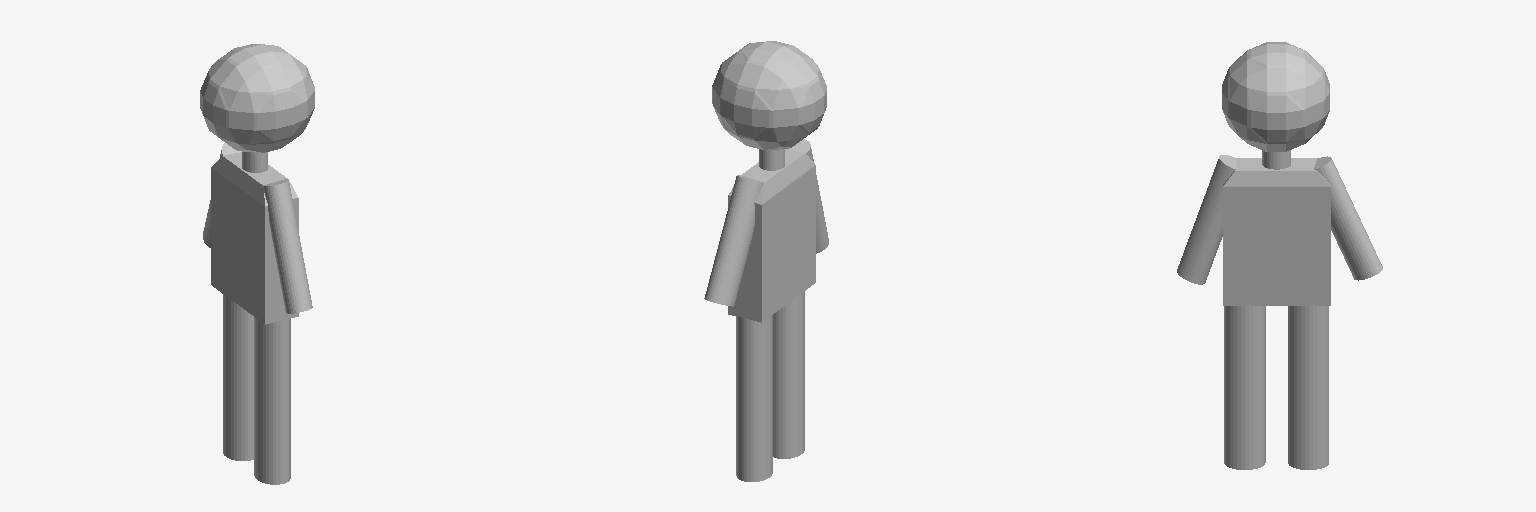
Rendered from man.obj.
3 views of the same model, side by side, from view 1: azimuth 30°, elevation 25°; view 2: azimuth 150°, elevation 25°; view 3: azimuth 270°, elevation 25° (orthographic).
Parts seen in each view (by area): view 1: Mball, Cube, Cylinder.002, Cylinder.001, Cylinder.003; view 2: Cube, Mball, Cylinder.001, Cylinder.002, Cylinder.004, Cylinder.003; view 3: Cube, Mball, Cylinder.002, Cylinder.001, Cylinder.003, Cylinder.004.
Part boxes in pixels (x1,y1,x2,y2): Mball: (200, 44, 314, 152); Cube: (211, 152, 298, 324); Cylinder.002: (254, 317, 290, 484); Cylinder.001: (223, 294, 253, 460); Cylinder.003: (262, 179, 312, 313); Cube: (728, 149, 815, 322); Mball: (712, 41, 826, 150); Cylinder.001: (736, 315, 772, 481); Cylinder.002: (773, 291, 804, 458); Cylinder.004: (704, 175, 763, 306); Cylinder.003: (789, 139, 828, 253); Cube: (1223, 158, 1330, 305); Mball: (1222, 42, 1329, 151); Cylinder.002: (1224, 306, 1265, 469); Cylinder.001: (1288, 306, 1328, 469); Cylinder.003: (1177, 155, 1236, 284); Cylinder.004: (1314, 156, 1382, 280).
Size of the model in its own units: 1.56 by 6.2 by 2.8.